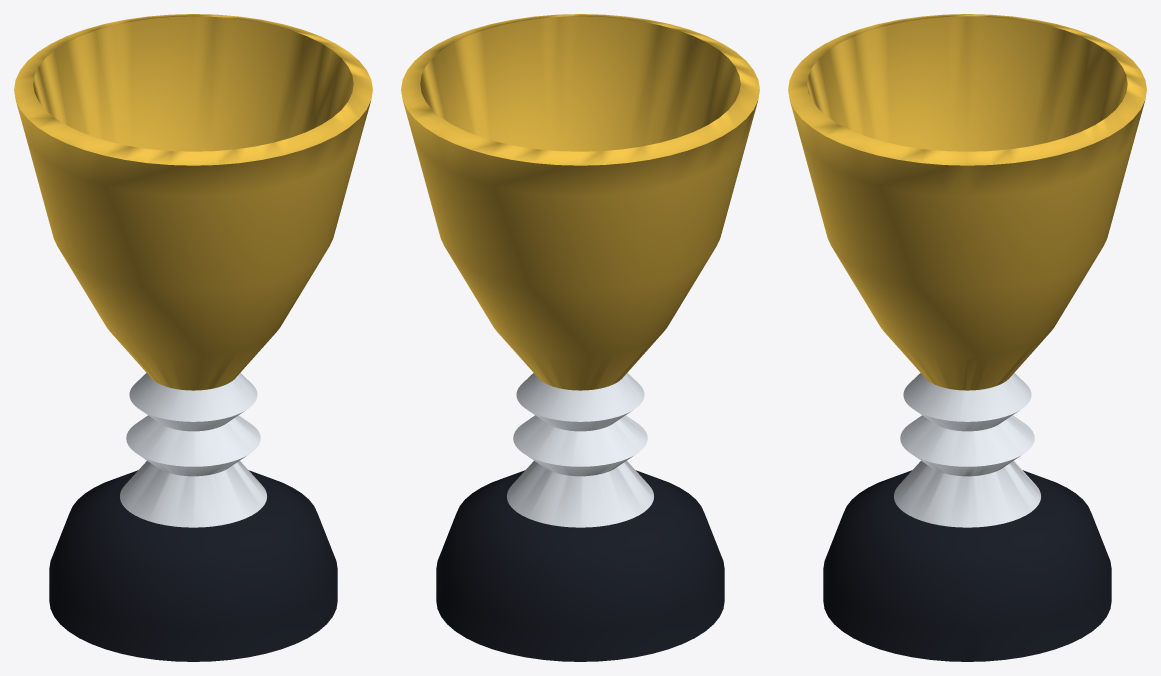
Rendered from gp_trophy_chalice.glb.
3 renders of one model, left to right at view 1: azimuth 30°, elevation 25°; view 2: azimuth 150°, elevation 25°; view 3: azimuth 270°, elevation 25°, orthographic.
Parts seen in each view (by area): view 1: GP4_Bowl, GP4_Base, GP4_Stem_Rings; view 2: GP4_Bowl, GP4_Base, GP4_Stem_Rings; view 3: GP4_Bowl, GP4_Base, GP4_Stem_Rings.
Boxes of the visible parts, left/top/right/bottom form: GP4_Bowl: left=14, top=14, right=372, bottom=390; GP4_Base: left=49, top=470, right=337, bottom=661; GP4_Stem_Rings: left=120, top=373, right=266, bottom=527; GP4_Bowl: left=401, top=14, right=759, bottom=390; GP4_Base: left=436, top=470, right=724, bottom=661; GP4_Stem_Rings: left=507, top=373, right=653, bottom=527; GP4_Bowl: left=788, top=14, right=1146, bottom=390; GP4_Base: left=823, top=470, right=1111, bottom=661; GP4_Stem_Rings: left=894, top=373, right=1040, bottom=527.
Bounding box in the file's own units: 0.224 × 0.356 × 0.224.
